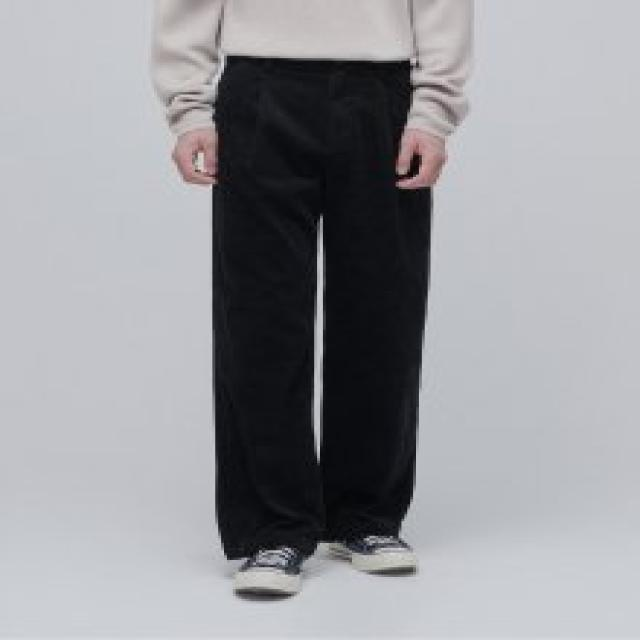long-pants: (212, 56, 434, 550)
